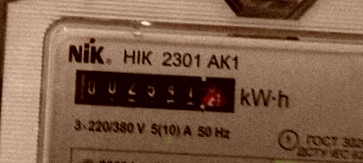0: (83, 74, 97, 95), (104, 73, 117, 95)
1: (183, 79, 195, 100)
2: (124, 75, 137, 96)
4: (164, 77, 177, 98)
5: (143, 75, 156, 98)
6: (204, 92, 216, 108)
screen: (62, 57, 247, 123)
